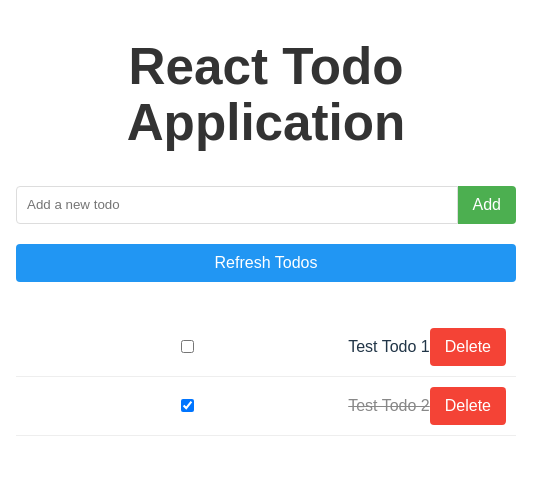
Test case: React Todo App › adds a todo to the list
Expected: the number of list items with test id "todo-item" is 2, [16, 318, 516, 377]; [16, 377, 516, 436]
Type "Learn Vitest" into the field with test id "new-todo-input" at x=237, y=205, box [16, 186, 458, 224]
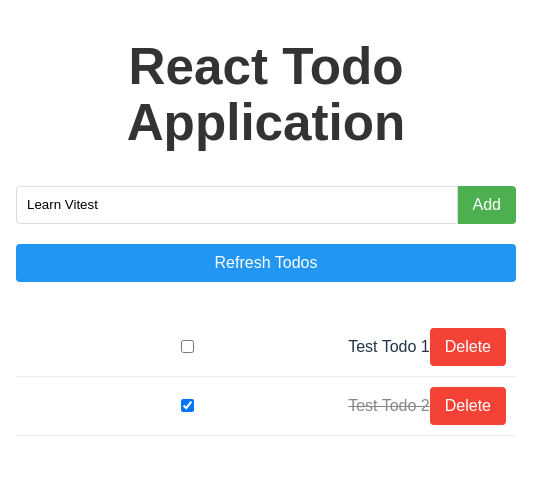
Click the button with test id "add-todo-button" at x=487, y=205, box [458, 186, 516, 224]
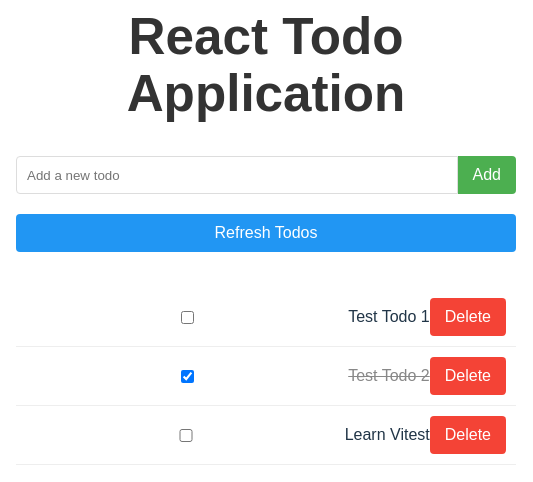
Now the number of list items with test id "todo-item" is 3, box [16, 288, 516, 347]; [16, 347, 516, 406]; [16, 406, 516, 465]
Now the list item with test id "todo-item" shows "Learn Vitest", box [345, 426, 430, 443]
